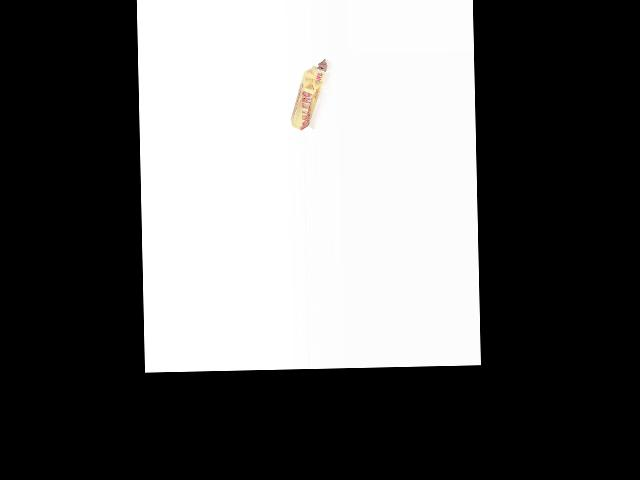chocolate: (288, 58, 332, 129)
